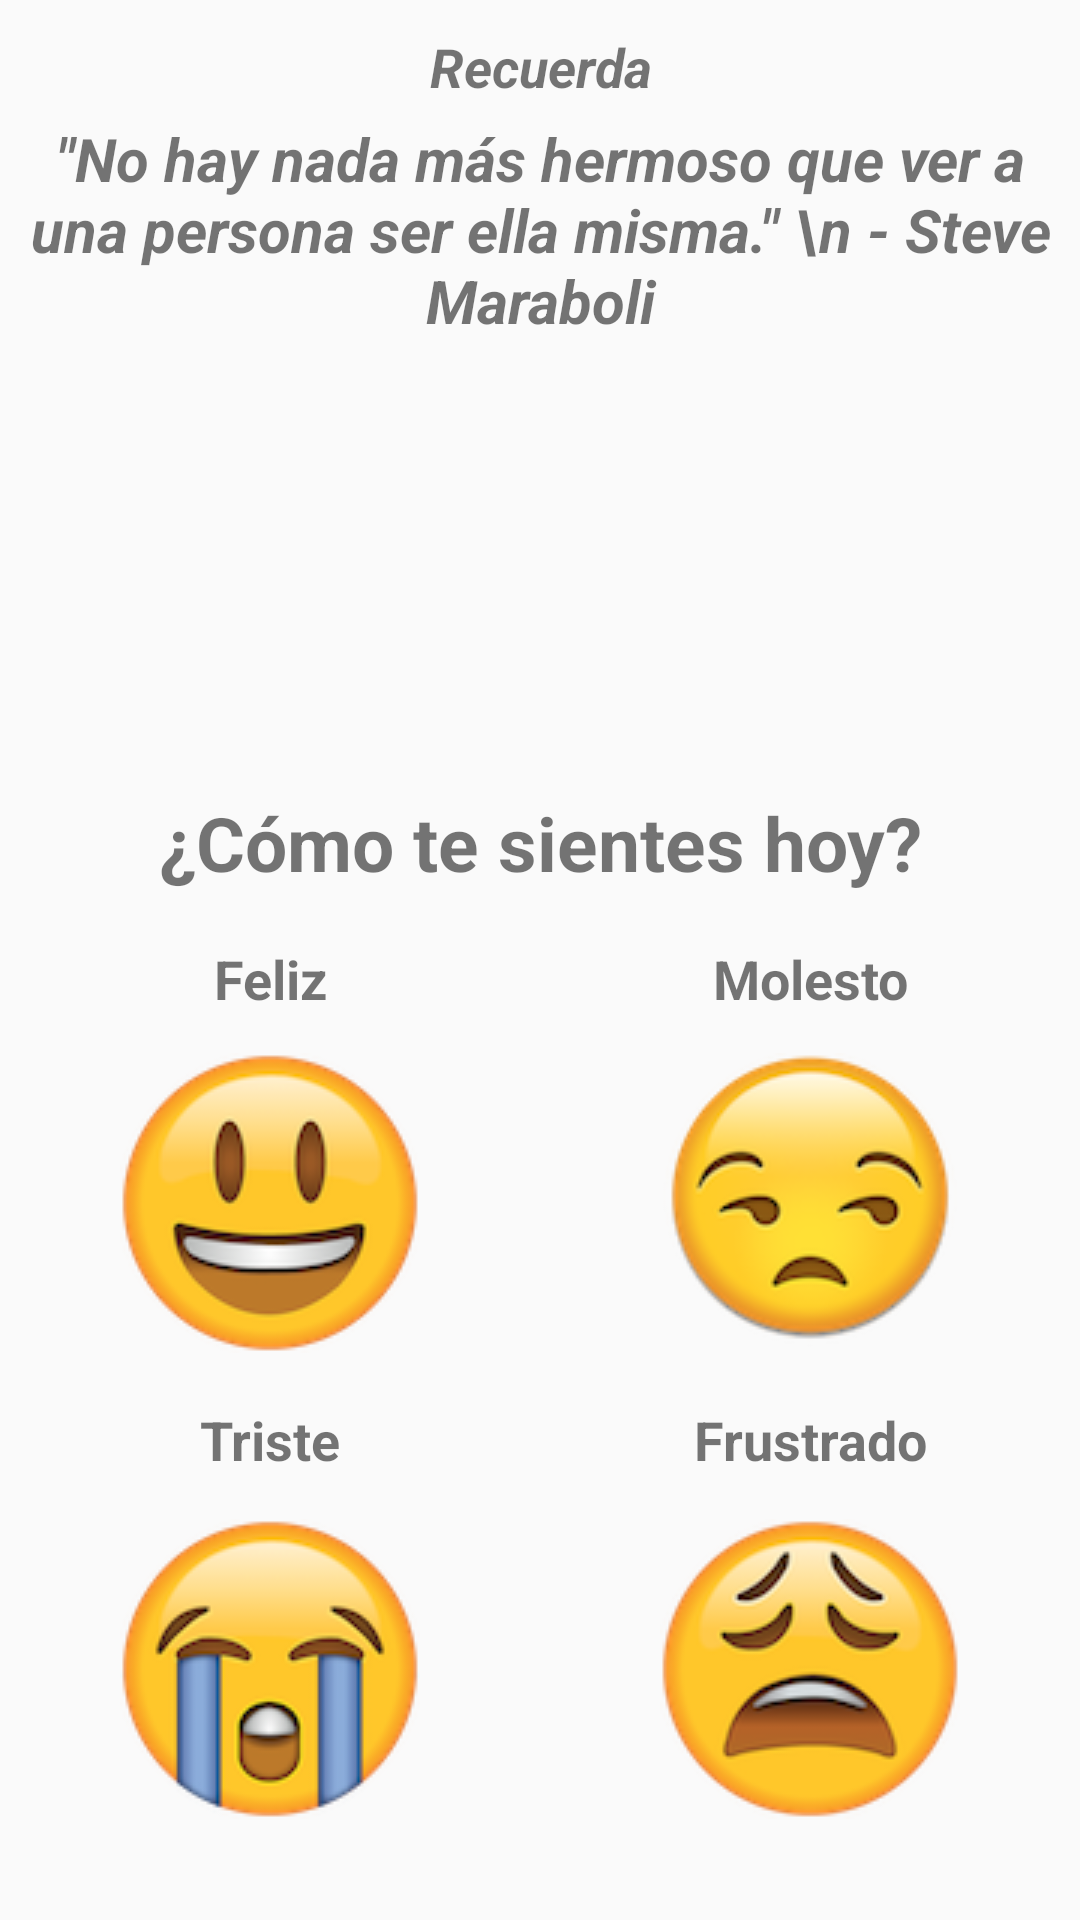

Icons on this 1080x1920 Android screen, each with the point to tap as [x,y]:
indifferent: [810,1196]
